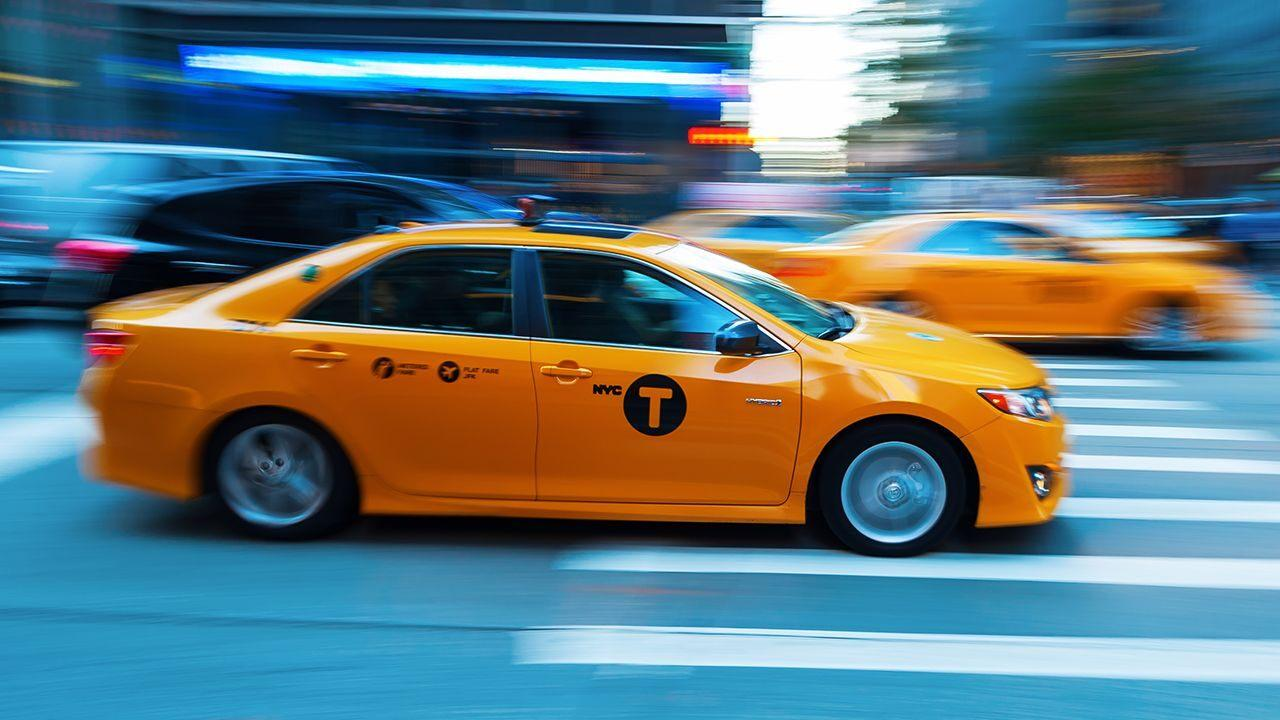taxi: (42, 187, 1084, 573)
